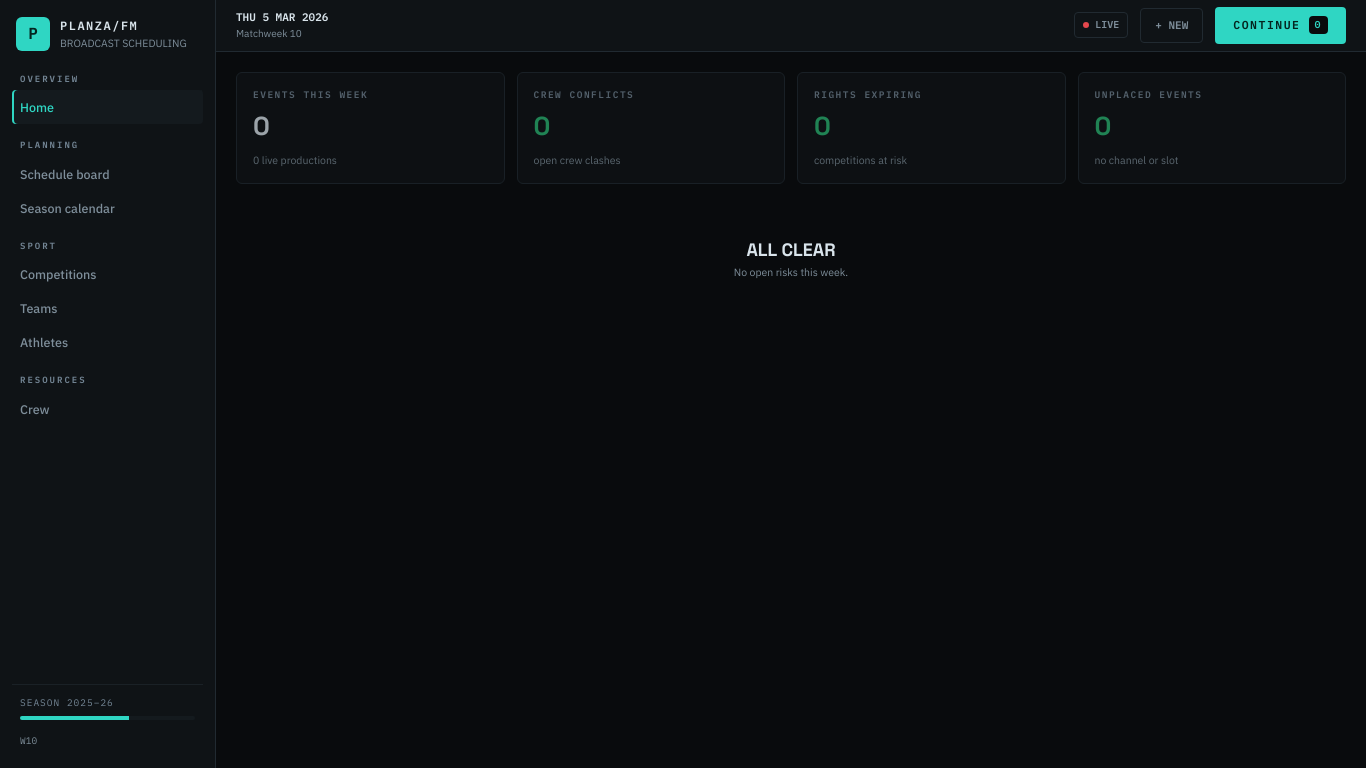
Scenario: + NEW (Story FM1-6 AC — opens FmCreateModal, not a placeholder) › clicking + NEW mounts the real FmCreateModal with TRANSMISSION active by default
The width and height of the screenshot is (1366, 768).
Click the button with test id "fm-new-button".
click(1172, 26)  # box [1140, 8, 1203, 43]
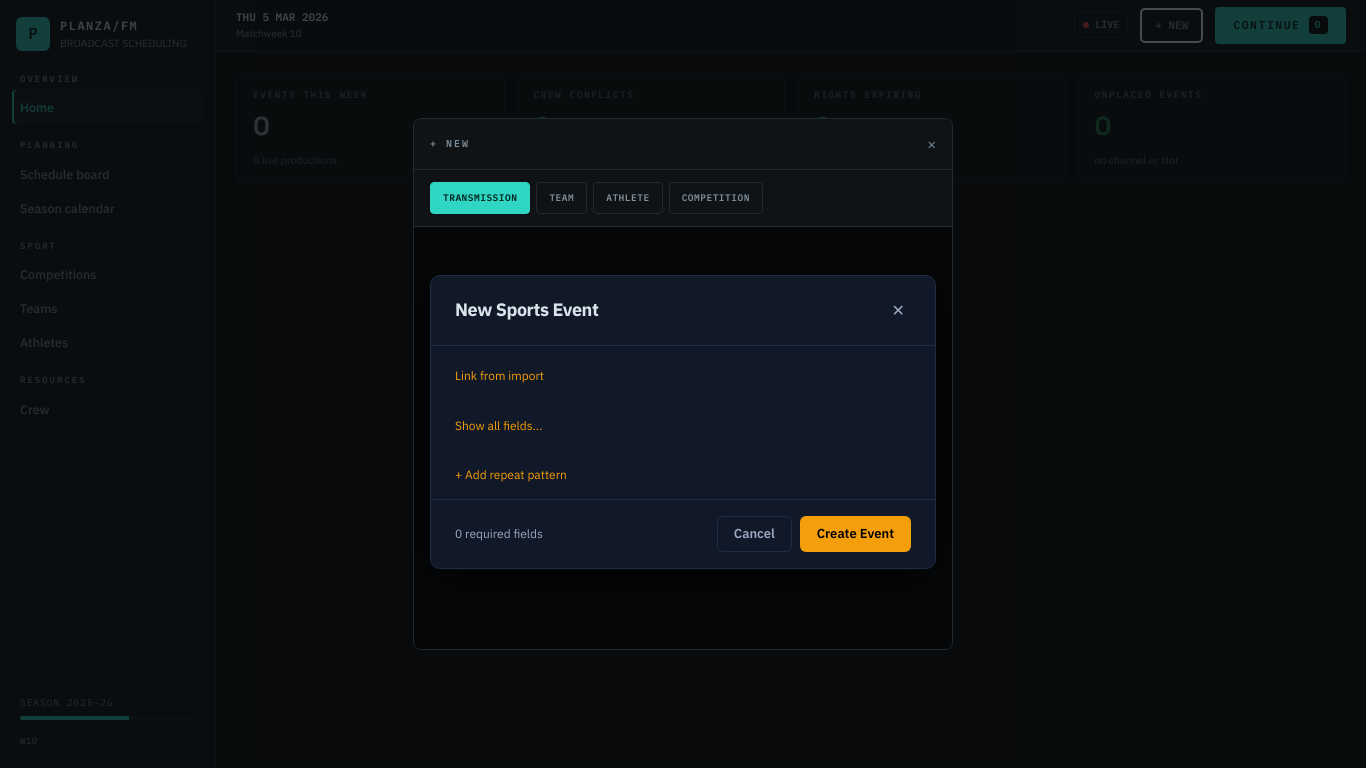
Result: the dialog with test id "fm-create-modal" is shown at [413, 118, 953, 650]
